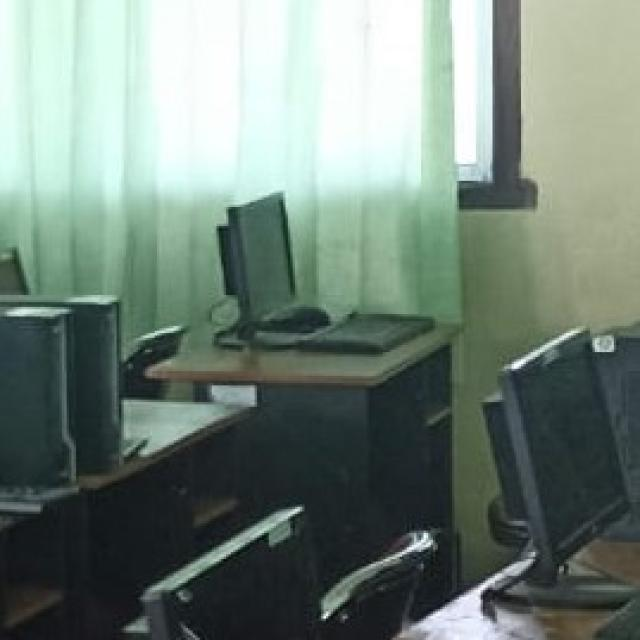offscreen: (511, 327, 634, 571), (238, 194, 296, 319)
